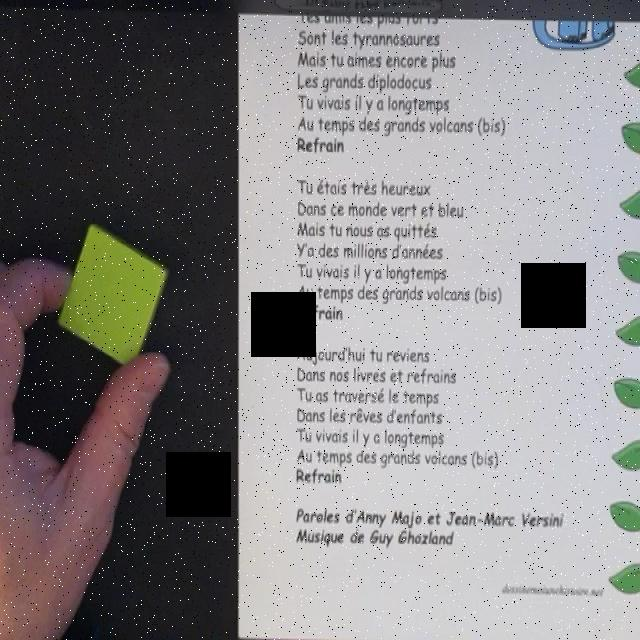square: (58, 224, 168, 370)
